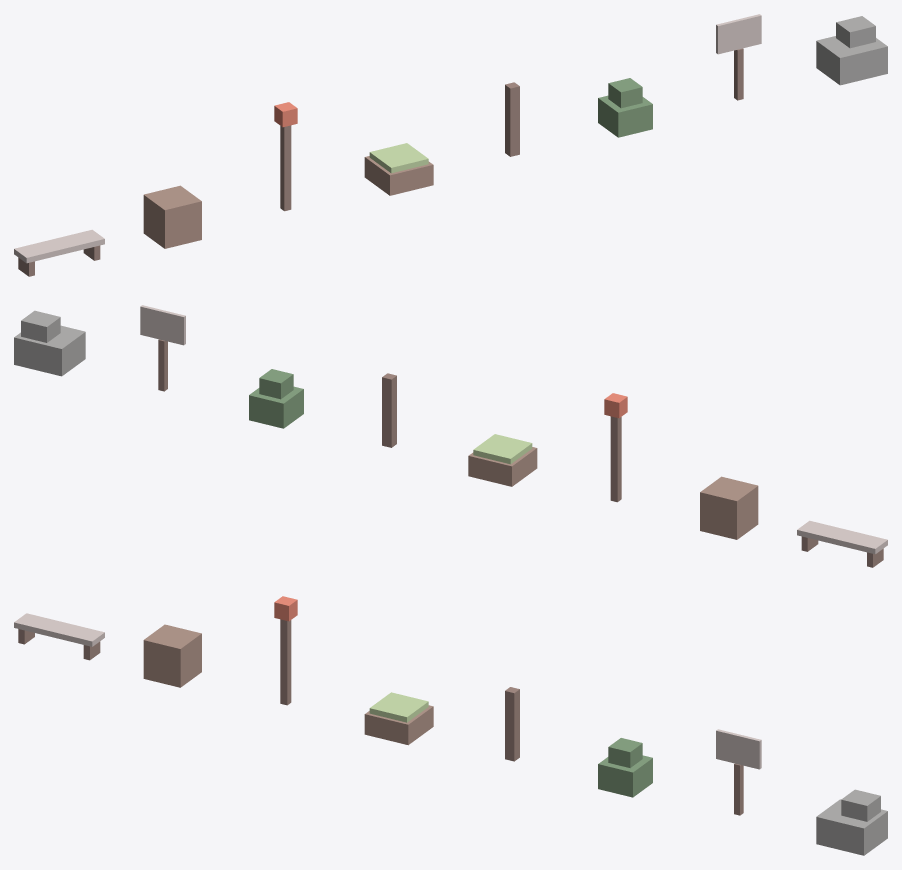
The model's file is catalog.glb.
3 views of the same model, one above another, from view 1: azimuth 30°, elevation 25°; view 2: azimuth 150°, elevation 25°; view 3: azimuth 330°, elevation 25° (orthographic).
Visible parts, largest first — view 1: prop_stone, prop_crate, prop_planter, prop_shrub, prop_bench, prop_sign, prop_lantern, prop_post; view 2: prop_stone, prop_crate, prop_planter, prop_shrub, prop_bench, prop_sign, prop_lantern, prop_post; view 3: prop_stone, prop_crate, prop_planter, prop_shrub, prop_bench, prop_sign, prop_lantern, prop_post.
Boxes of the visible parts, x1=… form: prop_stone: x1=816, y1=16, x2=887, y2=85; prop_crate: x1=143, y1=185, x2=201, y2=248; prop_planter: x1=364, y1=143, x2=433, y2=195; prop_shrub: x1=598, y1=78, x2=652, y2=137; prop_bench: x1=14, y1=229, x2=104, y2=276; prop_sign: x1=716, y1=14, x2=761, y2=100; prop_lantern: x1=274, y1=102, x2=297, y2=211; prop_post: x1=505, y1=82, x2=519, y2=156; prop_stone: x1=14, y1=310, x2=85, y2=376; prop_crate: x1=700, y1=476, x2=758, y2=539; prop_planter: x1=468, y1=434, x2=537, y2=486; prop_shrub: x1=249, y1=369, x2=303, y2=428; prop_bench: x1=797, y1=520, x2=887, y2=567; prop_sign: x1=140, y1=305, x2=185, y2=391; prop_lantern: x1=604, y1=393, x2=627, y2=502; prop_post: x1=382, y1=373, x2=396, y2=447; prop_stone: x1=816, y1=789, x2=887, y2=855; prop_crate: x1=143, y1=624, x2=201, y2=687; prop_planter: x1=364, y1=692, x2=433, y2=745; prop_shrub: x1=598, y1=738, x2=652, y2=797; prop_bench: x1=14, y1=613, x2=104, y2=660; prop_sign: x1=716, y1=729, x2=761, y2=815; prop_lantern: x1=274, y1=596, x2=297, y2=705; prop_post: x1=505, y1=687, x2=519, y2=761.
Size of the model in its own units: 19.65 by 2.24 by 1.
